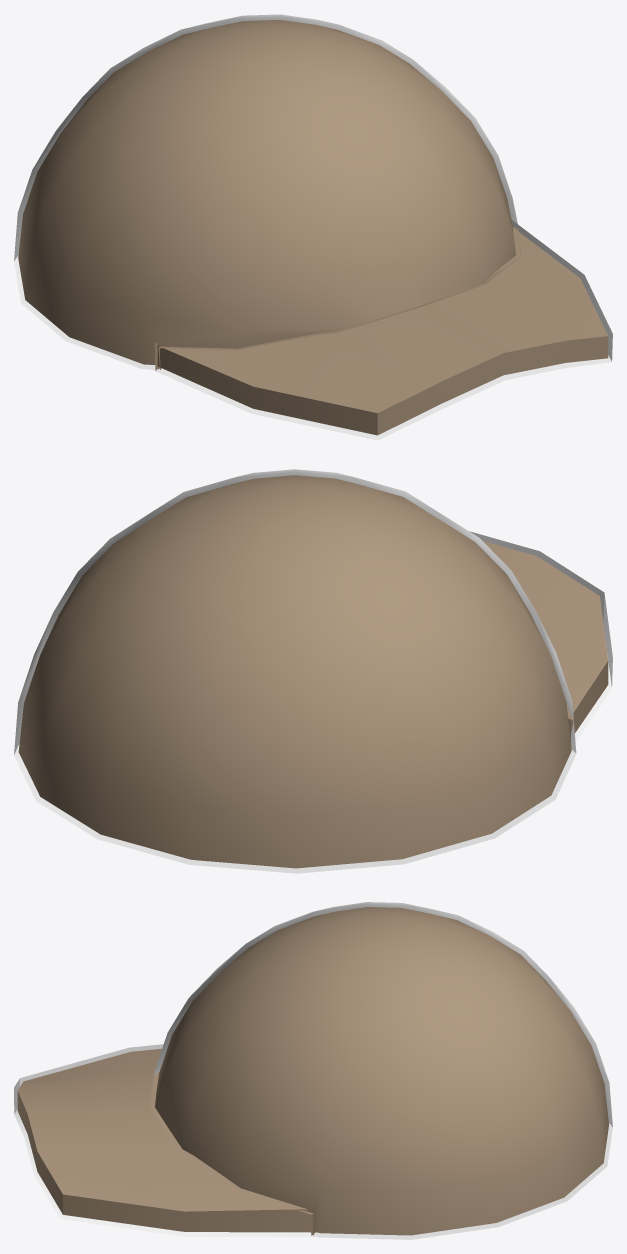
File: hat.glb
The picture shows the model from 3 angles, top to bottom: view 1: azimuth 30°, elevation 25°; view 2: azimuth 150°, elevation 25°; view 3: azimuth 270°, elevation 25°; orthographic projection. The views are drawn at different scales.
Parts seen in each view (by area): view 1: hat; view 2: hat; view 3: hat.
Boxes of the visible parts, x1,y1,x2,y2 form: hat: [14, 14, 612, 440]; hat: [14, 469, 612, 873]; hat: [14, 902, 612, 1239].
Bounding box in the file's own units: 1.41 × 0.7305 × 1.81.
